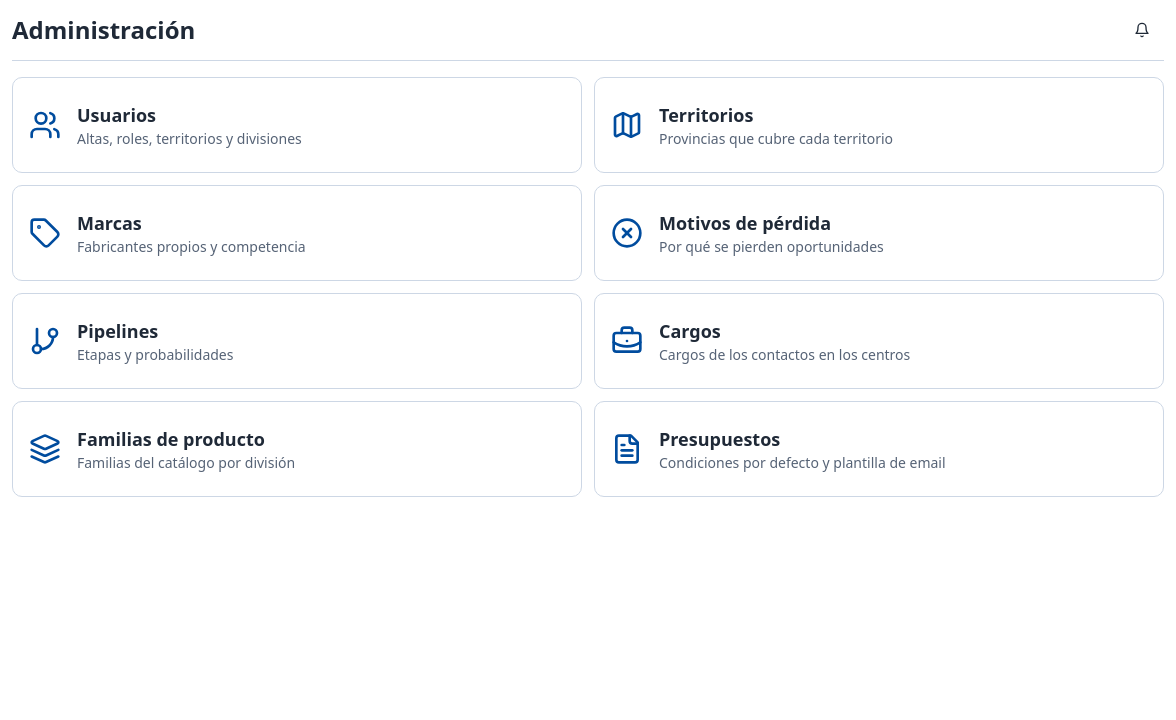
Test: job titles administration › reaches the list from the hub card and shows inactive badges
Click the link "Cargos Cargos de los contactos en los centros" at (627, 341), box [594,293,1164,389]
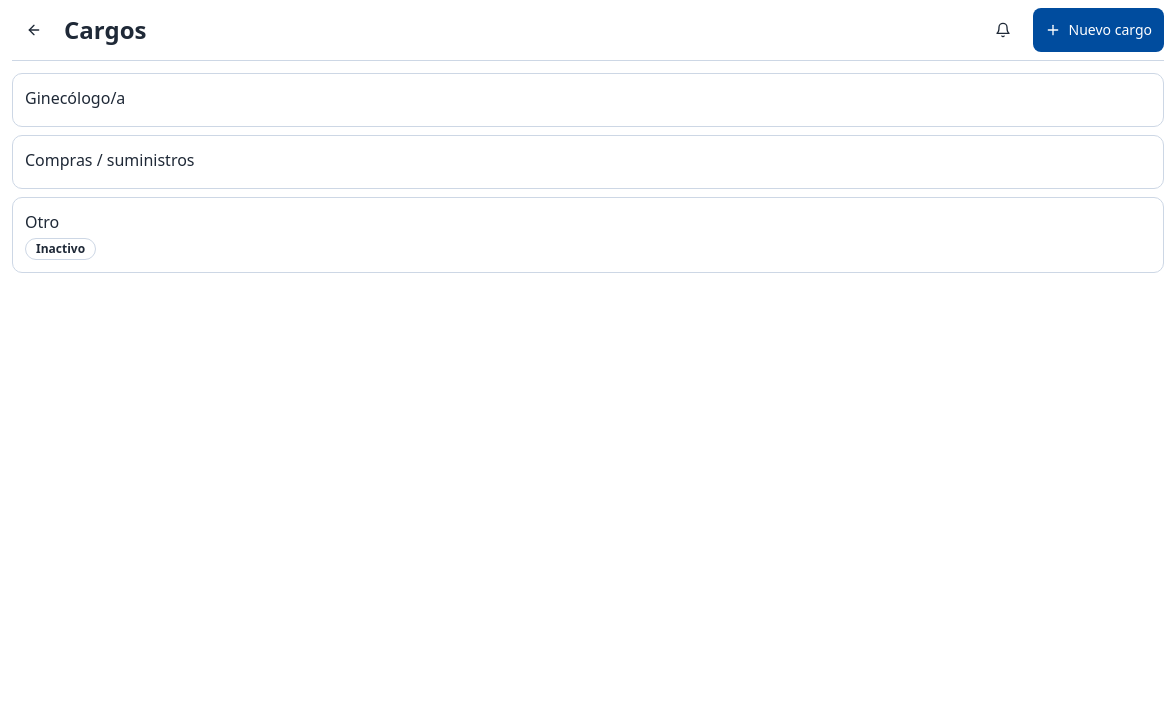
Check: the number of list items is 3, box [12,73,1164,127]; [12,135,1164,189]; [12,197,1164,273]
Check: the list item "Ginecólogo/a" is shown, box [12,73,1164,127]
Check: the text "Inactivo" is shown, box [25,238,96,260]
